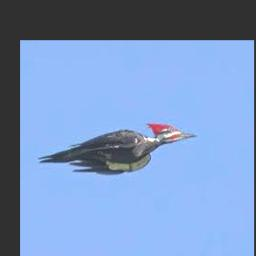Woodpecker: (37, 122, 197, 174)
